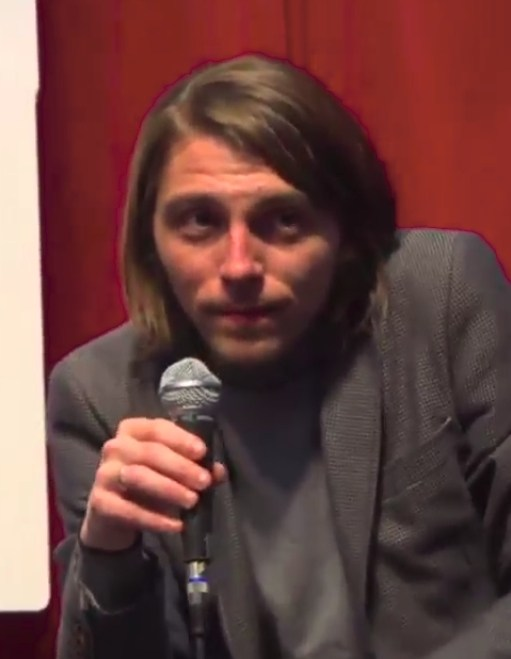Soto Ayam: (10, 70, 299, 600)
